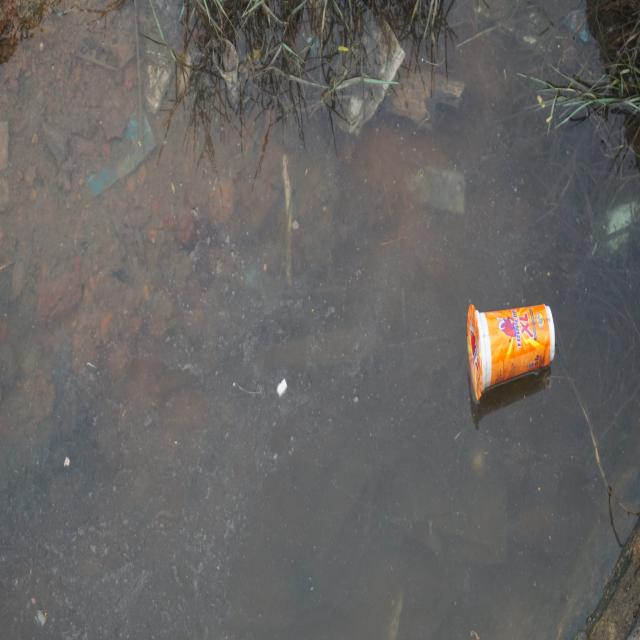Bungkus Minuman: (461, 290, 562, 412)
